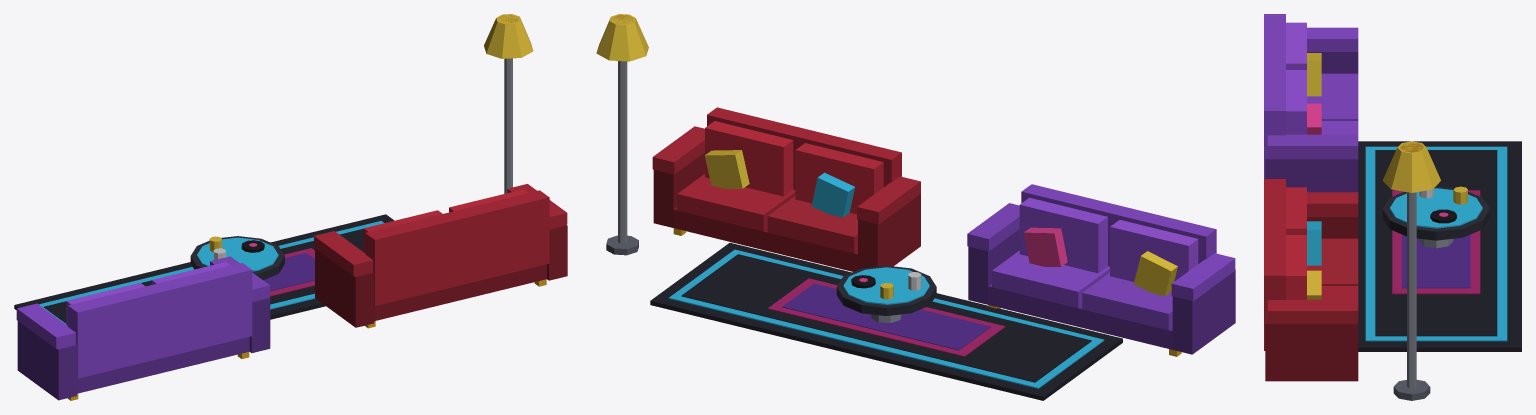
Rendered from Decor_DJStage_Lounge.fbx.
The picture shows the model from 3 angles, left to right: view 1: azimuth 30°, elevation 25°; view 2: azimuth 150°, elevation 25°; view 3: azimuth 270°, elevation 25°; orthographic projection. The views are drawn at different scales.
Parts seen in each view (by area): view 1: Lounge_Body; view 2: Lounge_Body; view 3: Lounge_Body.
Boxes of the visible parts, left/top/right/bottom form: Lounge_Body: left=14, top=14, right=567, bottom=400; Lounge_Body: left=596, top=14, right=1235, bottom=400; Lounge_Body: left=1264, top=14, right=1521, bottom=400.
Bounding box in the file's own units: 28.9 × 11.1 × 10.55.
